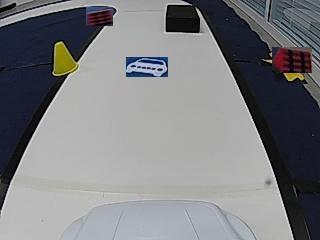block: (165, 5, 200, 32)
cone: (52, 41, 79, 75)
